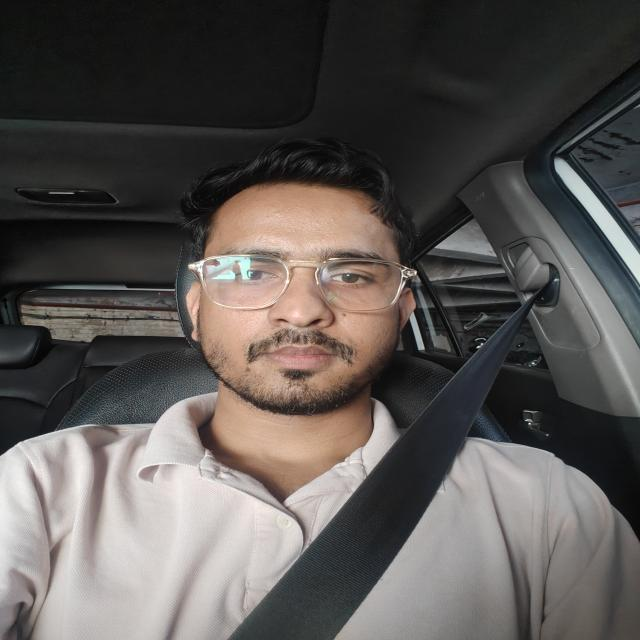seatbelt: (216, 241, 591, 640)
